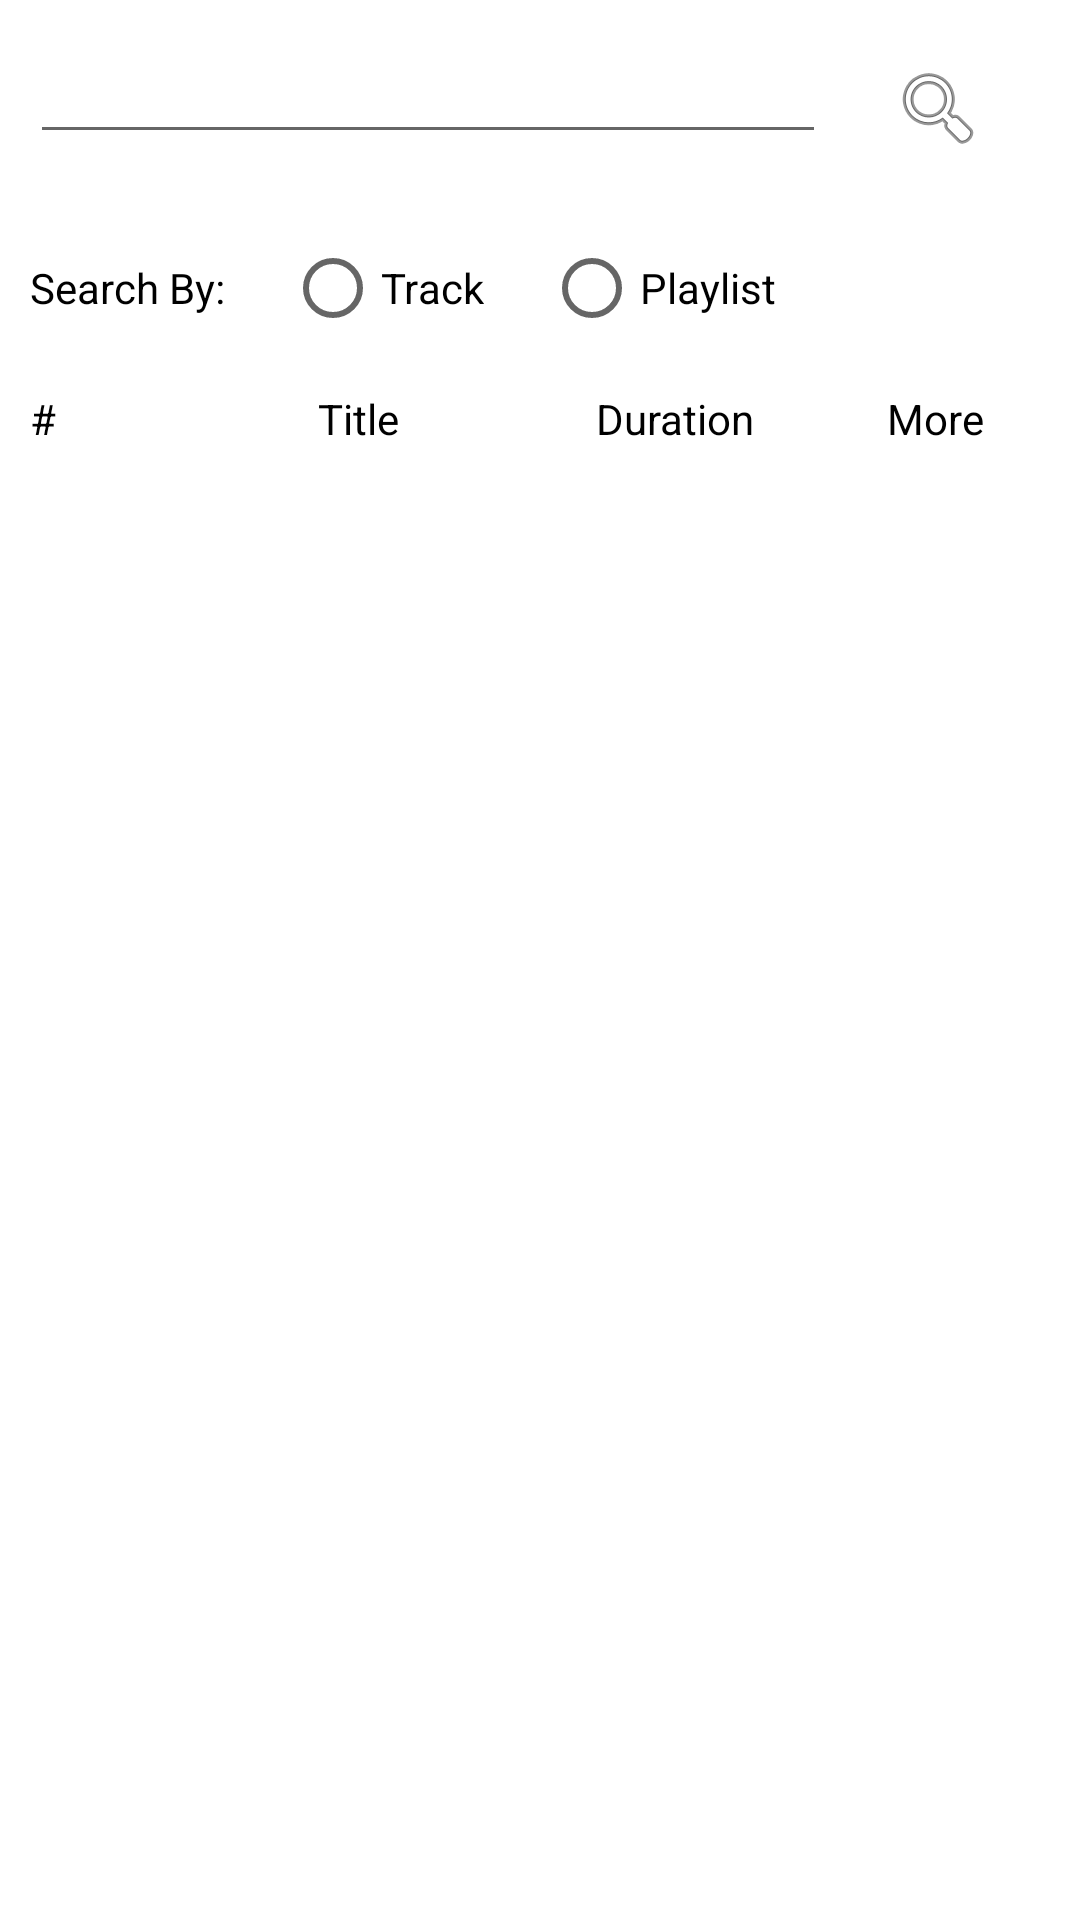

Where to tap for icons on this 1080w x 1920h app screen, as (x=x, y=y):
search: (x=938, y=108)
